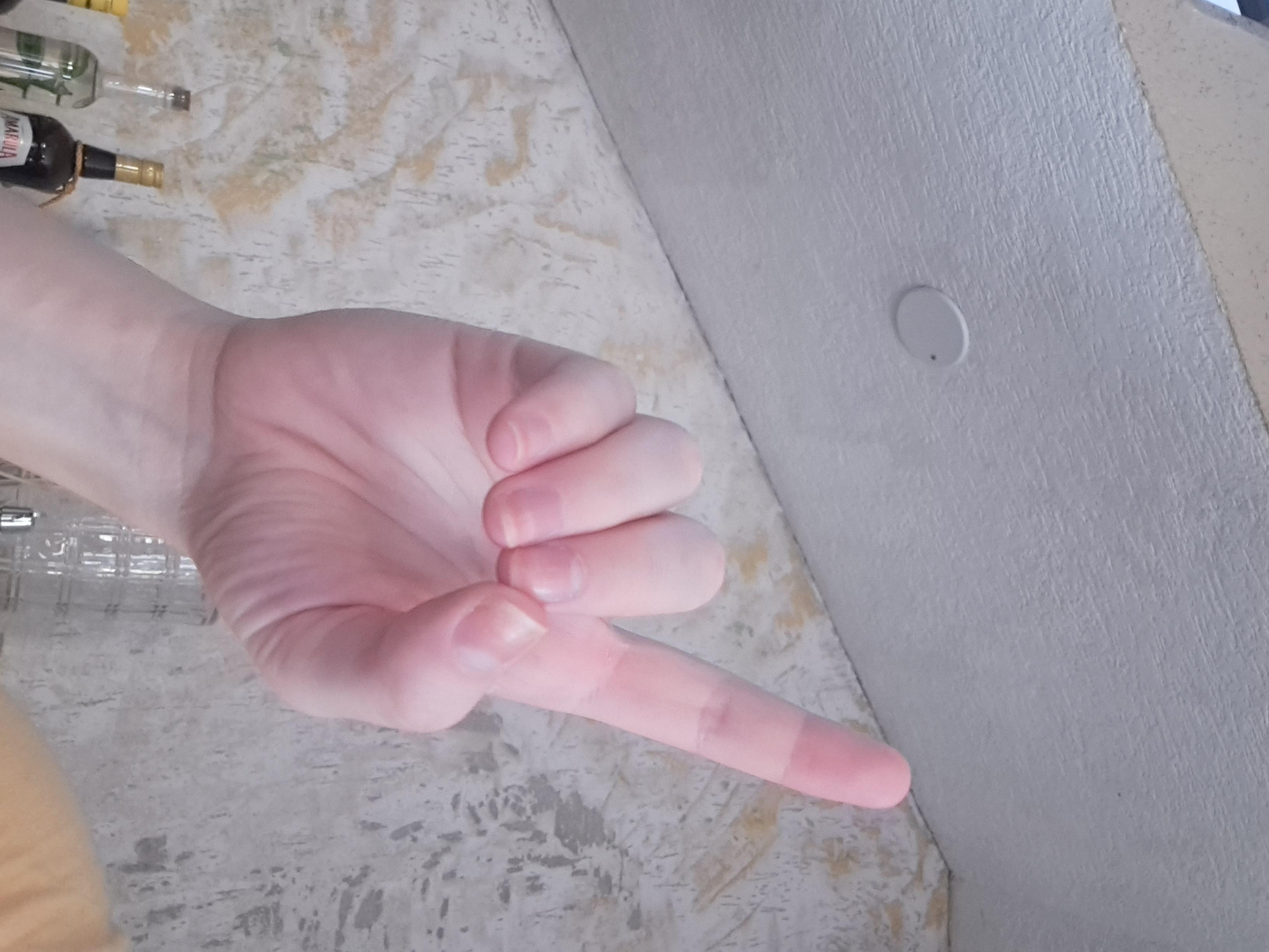D2: (410, 251, 1089, 805)
